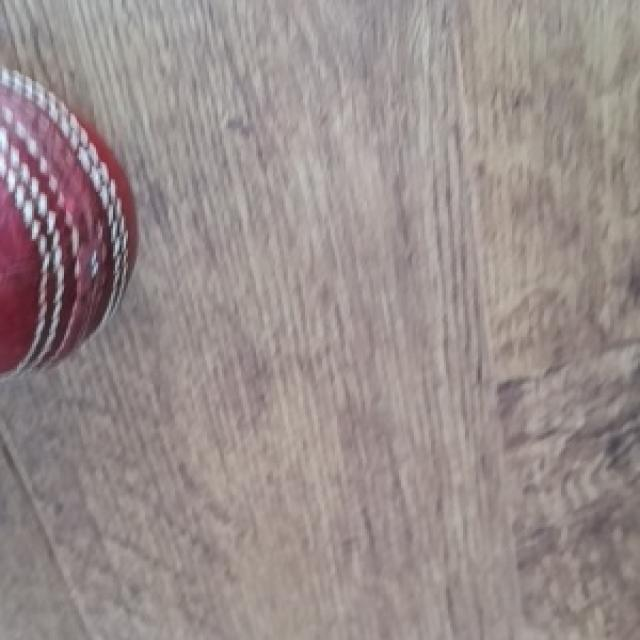ball: (0, 68, 141, 380)
